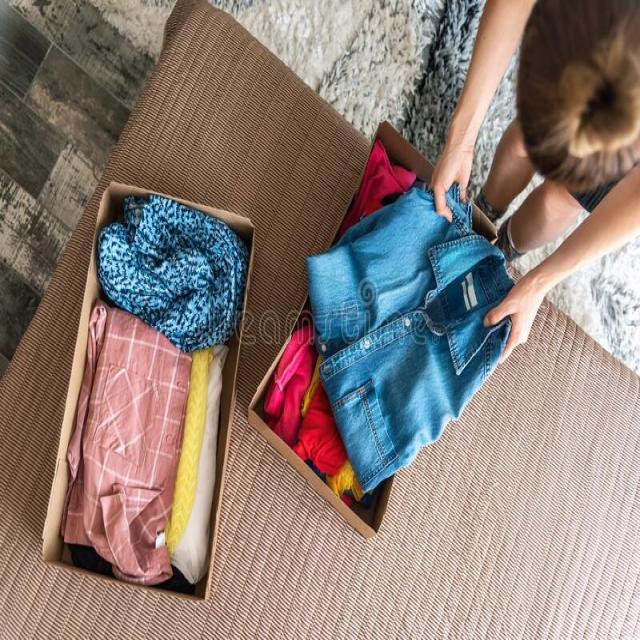clothes: (288, 213, 518, 488), (78, 313, 198, 563), (102, 216, 230, 340)
